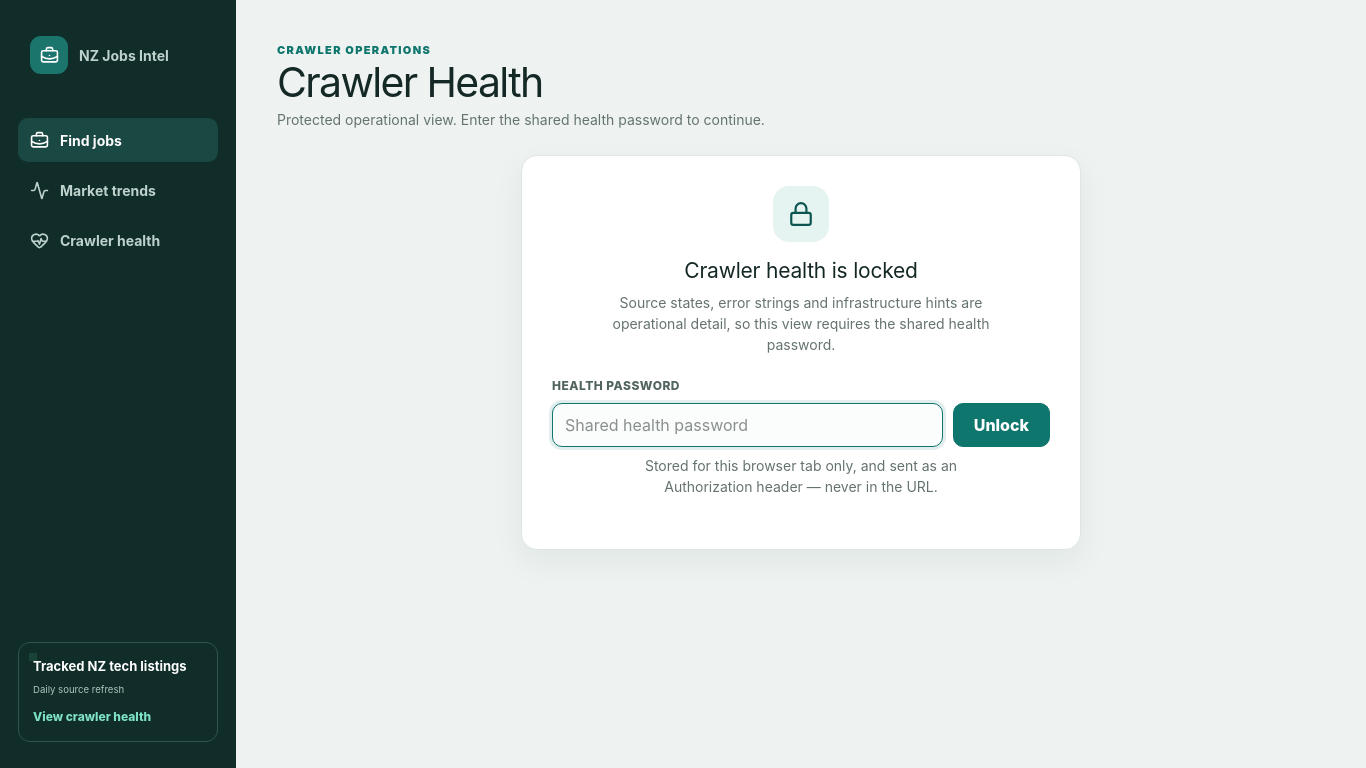
Test: HealthPage password gate › shows an inline error for a wrong password and stays locked
The image size is (1366, 768).
Type "wrong" into the password field labelled "Health password".
click(747, 425); type("wrong")  # box [552,403,943,447]
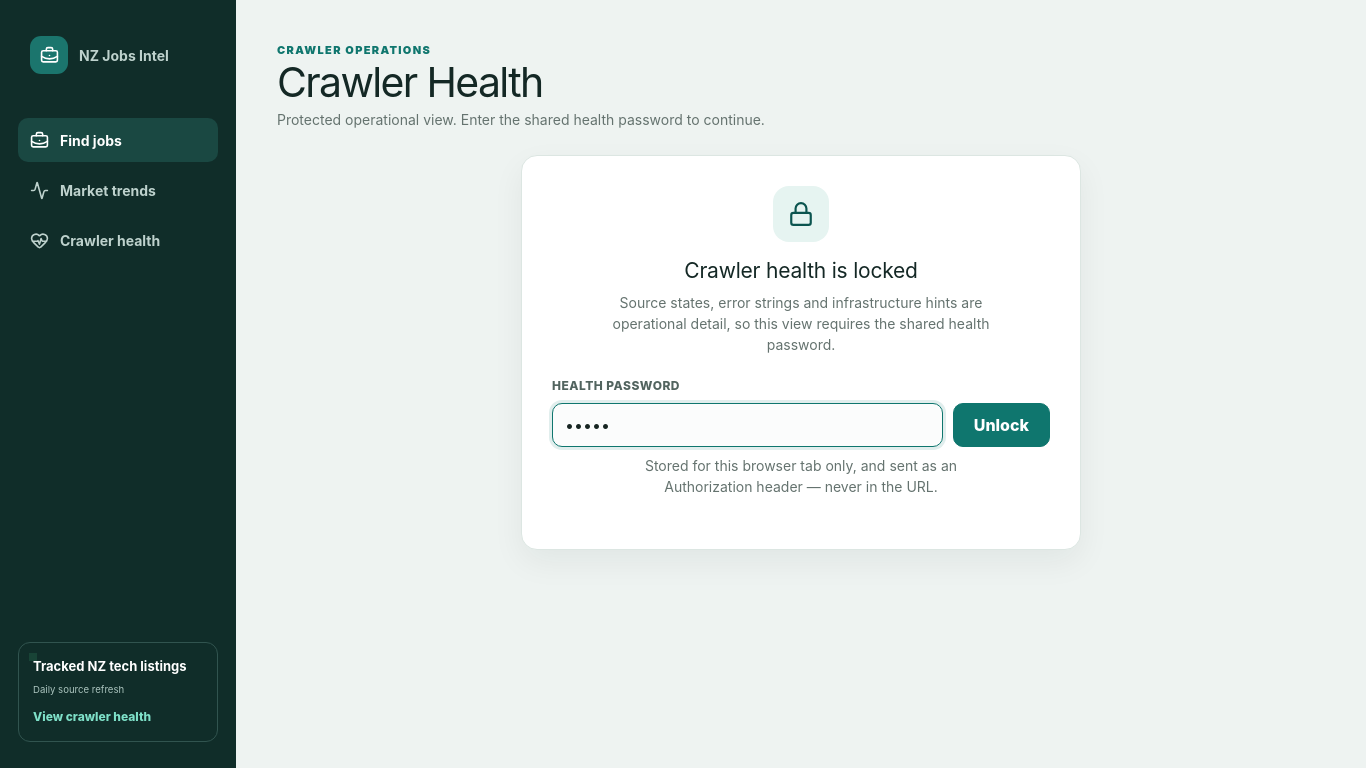
Click the button "Unlock".
click(1001, 425)  # box [953,403,1050,447]
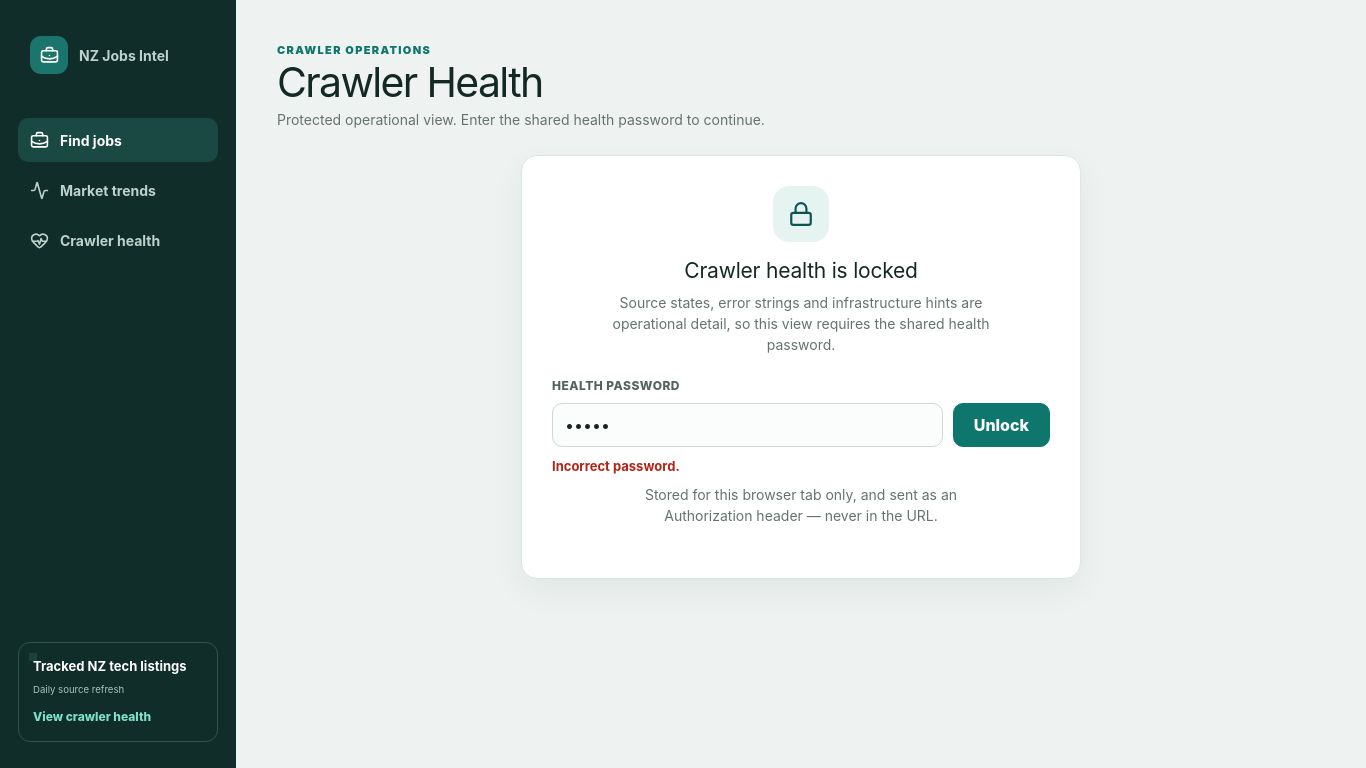
Expected: the heading "Crawler health is locked" is shown, [684,258,918,282]
Now the message shows "Incorrect password", box [552,458,680,474]
